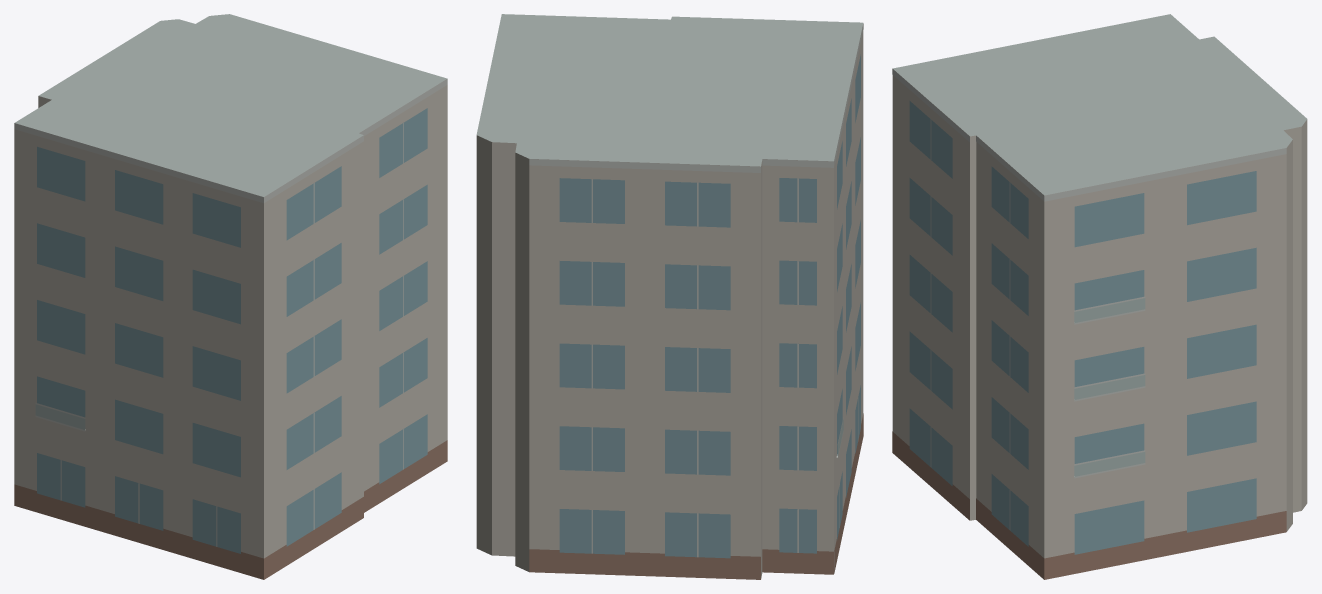
File: survey-upis-33021017.glb
The picture shows the model from 3 angles, left to right: view 1: azimuth 30°, elevation 25°; view 2: azimuth 150°, elevation 25°; view 3: azimuth 270°, elevation 25°; orthographic projection. The views are drawn at different scales.
Visible parts, largest first — view 1: survey-upis-33021017.tmp; view 2: survey-upis-33021017.tmp; view 3: survey-upis-33021017.tmp.
Boxes of the visible parts, left/top/right/bottom form: survey-upis-33021017.tmp: left=14, top=14, right=447, bottom=579; survey-upis-33021017.tmp: left=476, top=14, right=863, bottom=579; survey-upis-33021017.tmp: left=892, top=14, right=1307, bottom=579.
Bounding box in the file's own units: 15.46 × 15.25 × 14.93.
